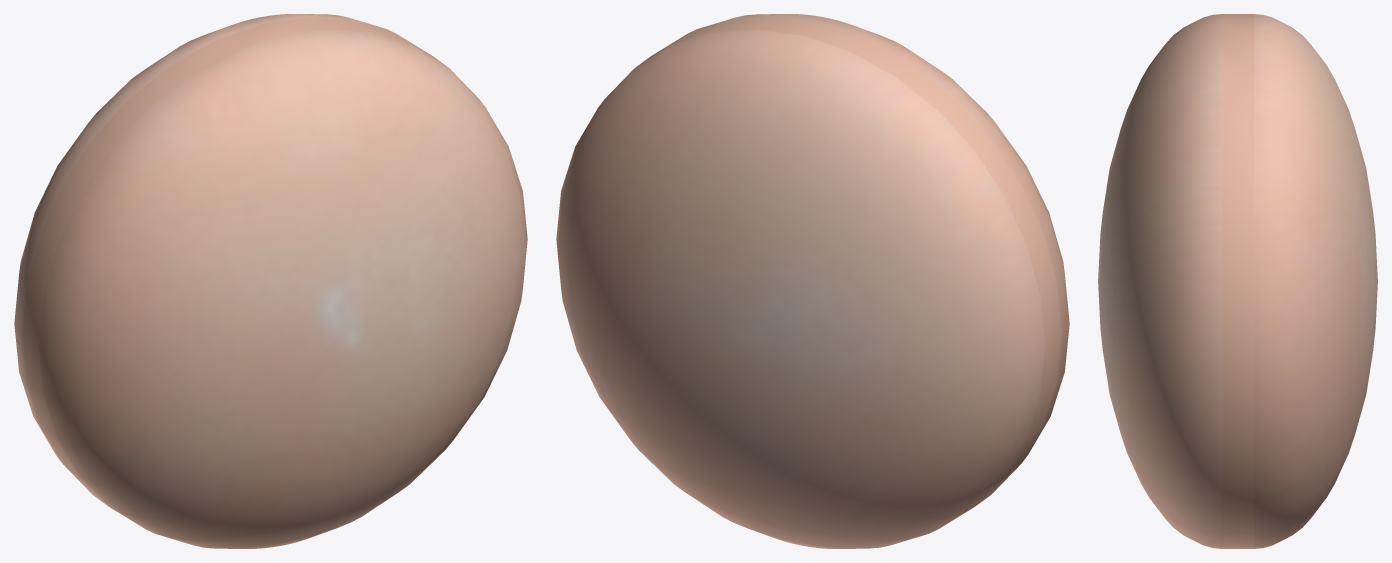
Rendered from 20140311GOPHDRGPT02305.fbx.
3 renders of one model, left to right at view 1: azimuth 30°, elevation 25°; view 2: azimuth 150°, elevation 25°; view 3: azimuth 270°, elevation 25°, orthographic. The views are drawn at different scales.
Parts seen in each view (by area): view 1: 球體.013; view 2: 球體.013; view 3: 球體.013.
Boxes of the visible parts, x1,y1,x2,y2 form: 球體.013: (14,14,527,548); 球體.013: (556,14,1069,548); 球體.013: (1098,14,1377,548).
Size of the model in its own units: 0.8855 by 0.8855 by 0.4628.
